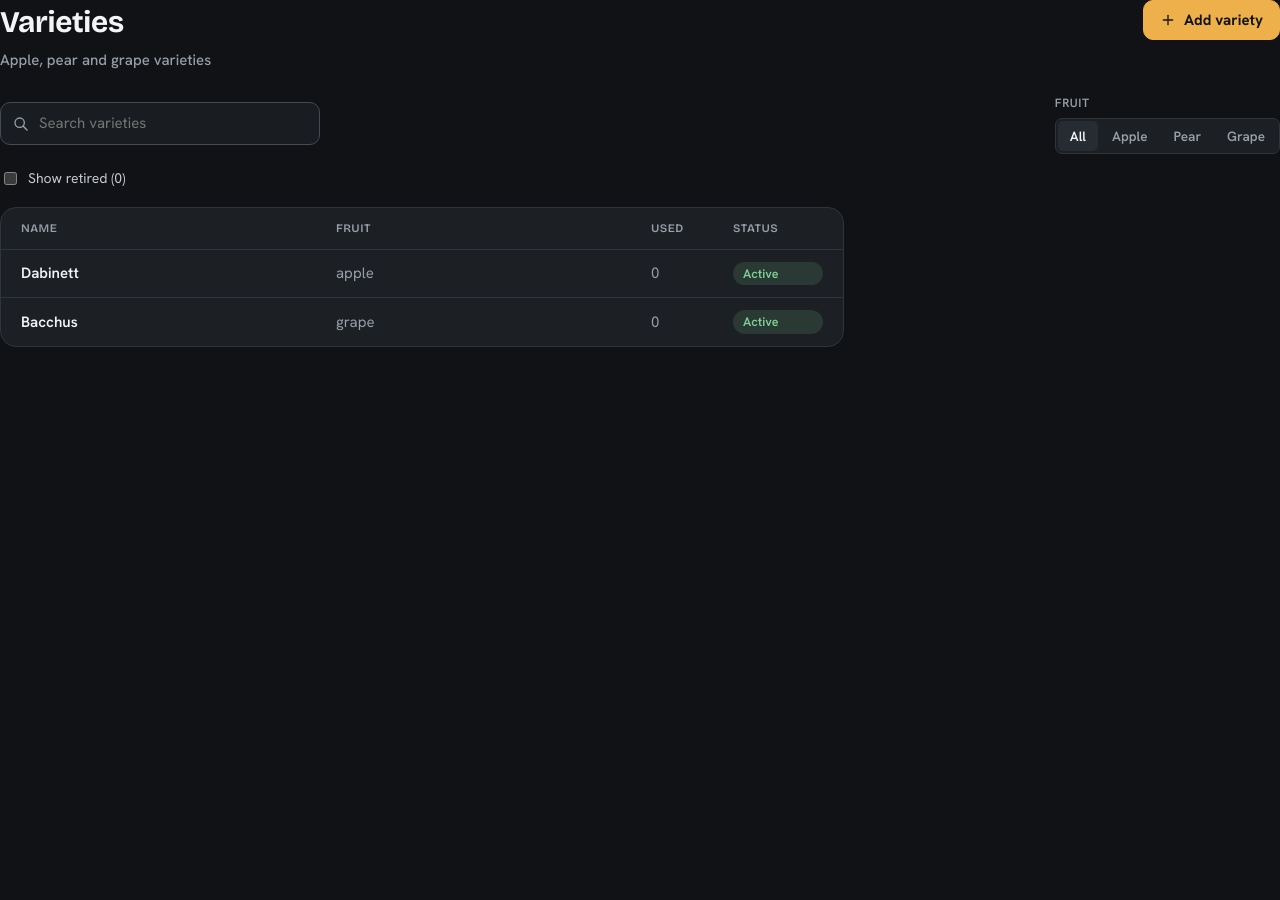
Test: ManagementList › deletes an unused item only after confirming
The width and height of the screenshot is (1280, 900).
Click the text "Dabinett" at x=50, y=273, box [21,263,79,283]
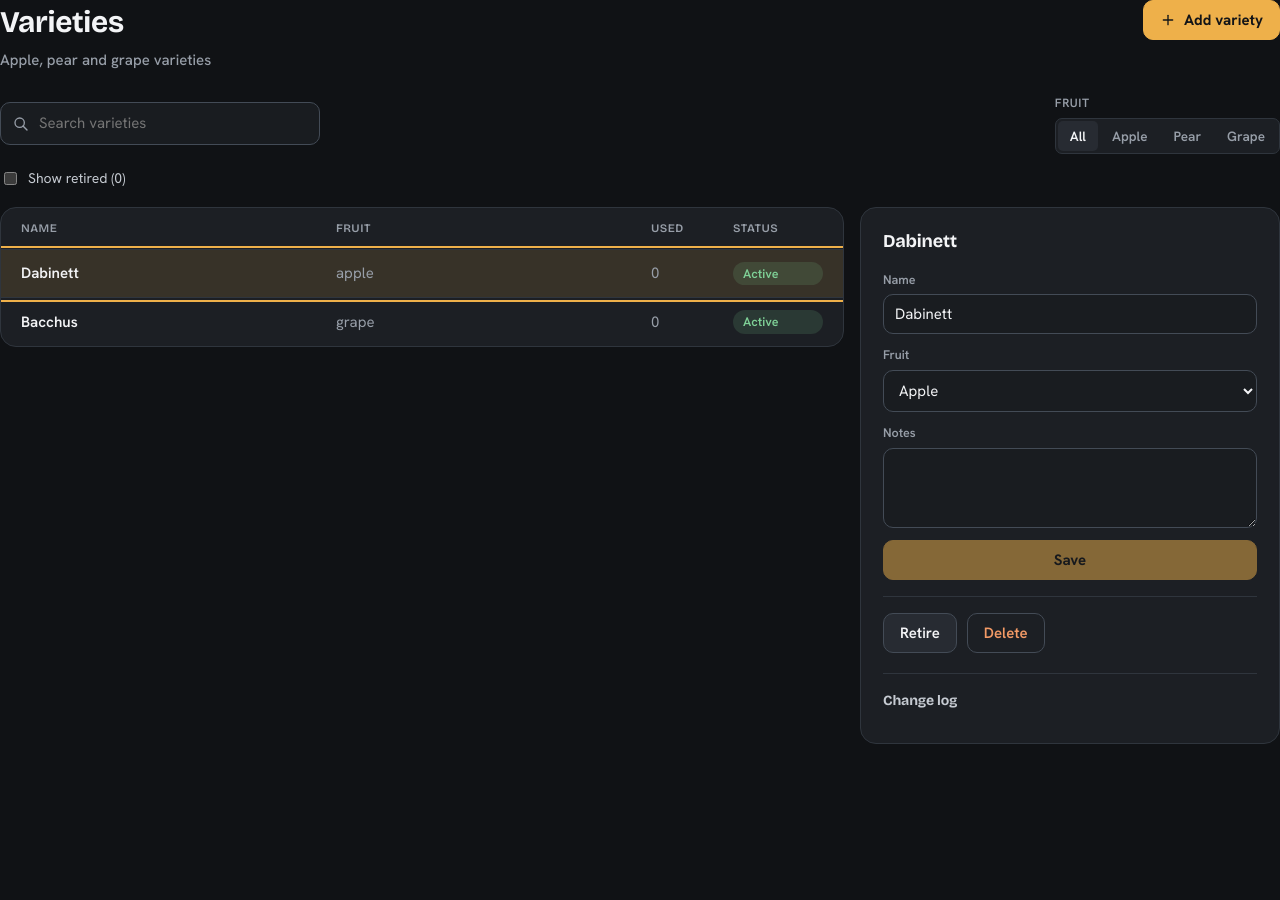
Click the button "Delete" at x=1006, y=633, box [967,613,1045,653]
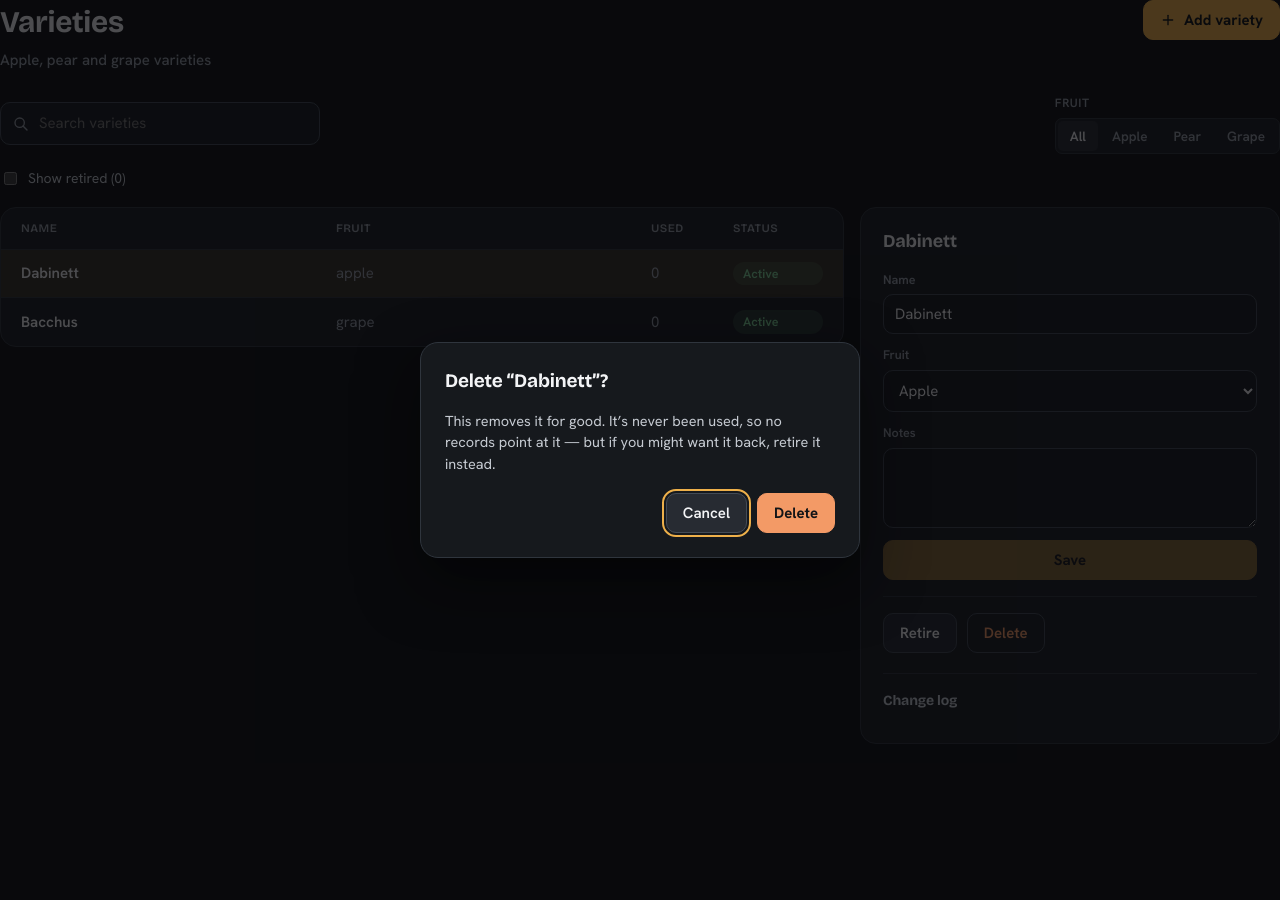
# Esc backs out without deleting.
Press Escape
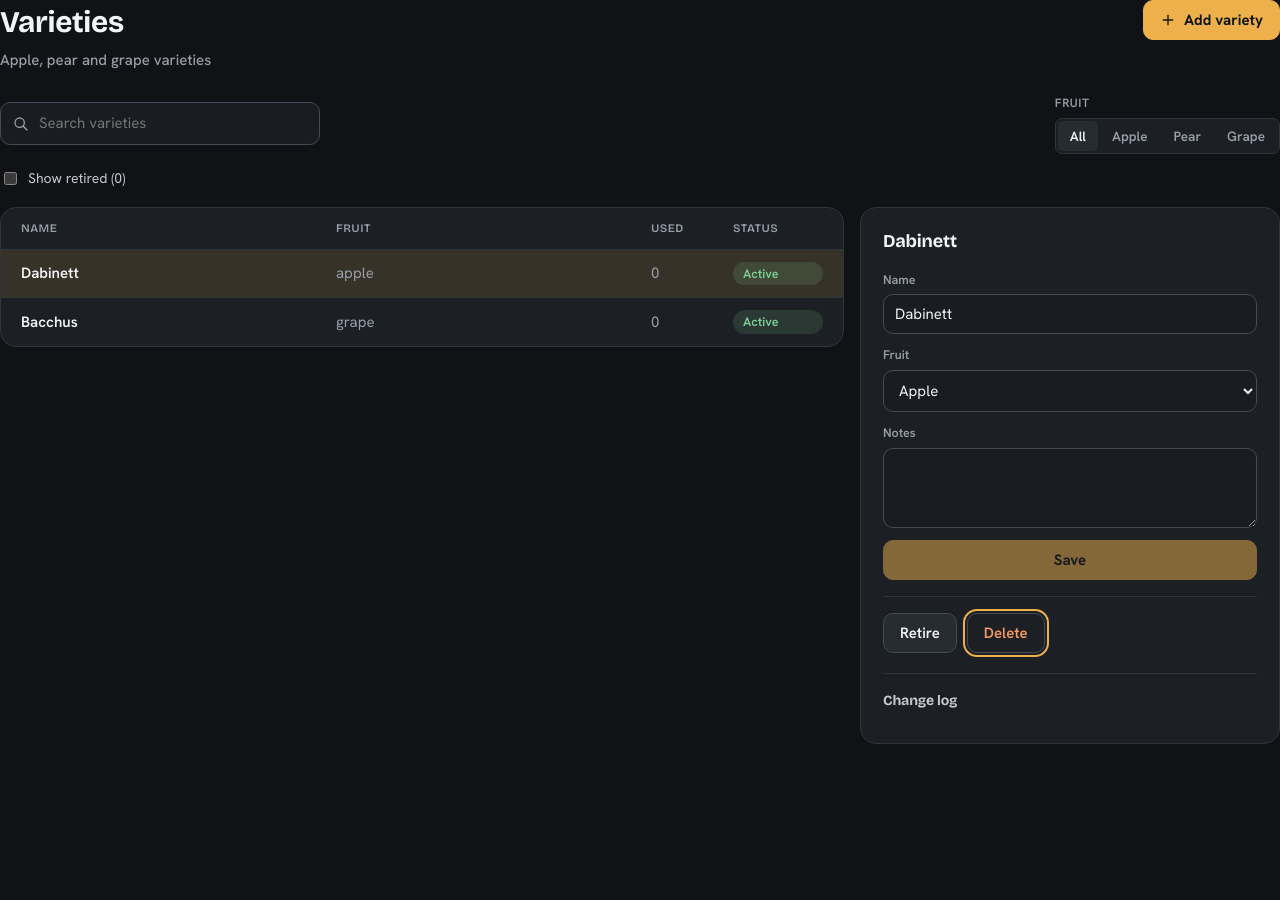
Expected: the dialog is gone
Click the button "Delete" at x=1006, y=633, box [967,613,1045,653]
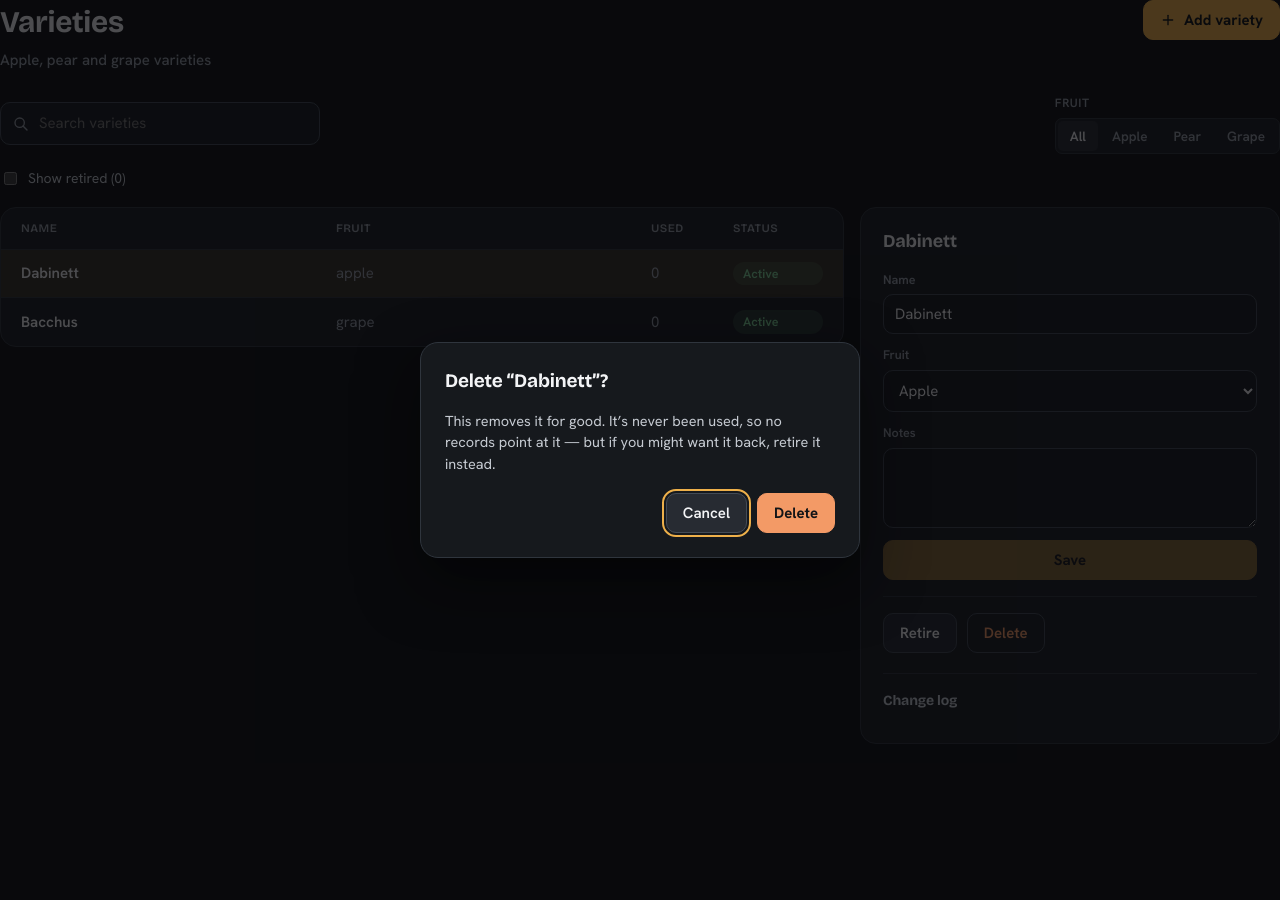
Click the button "Delete" at x=796, y=513, box [757,493,835,533]
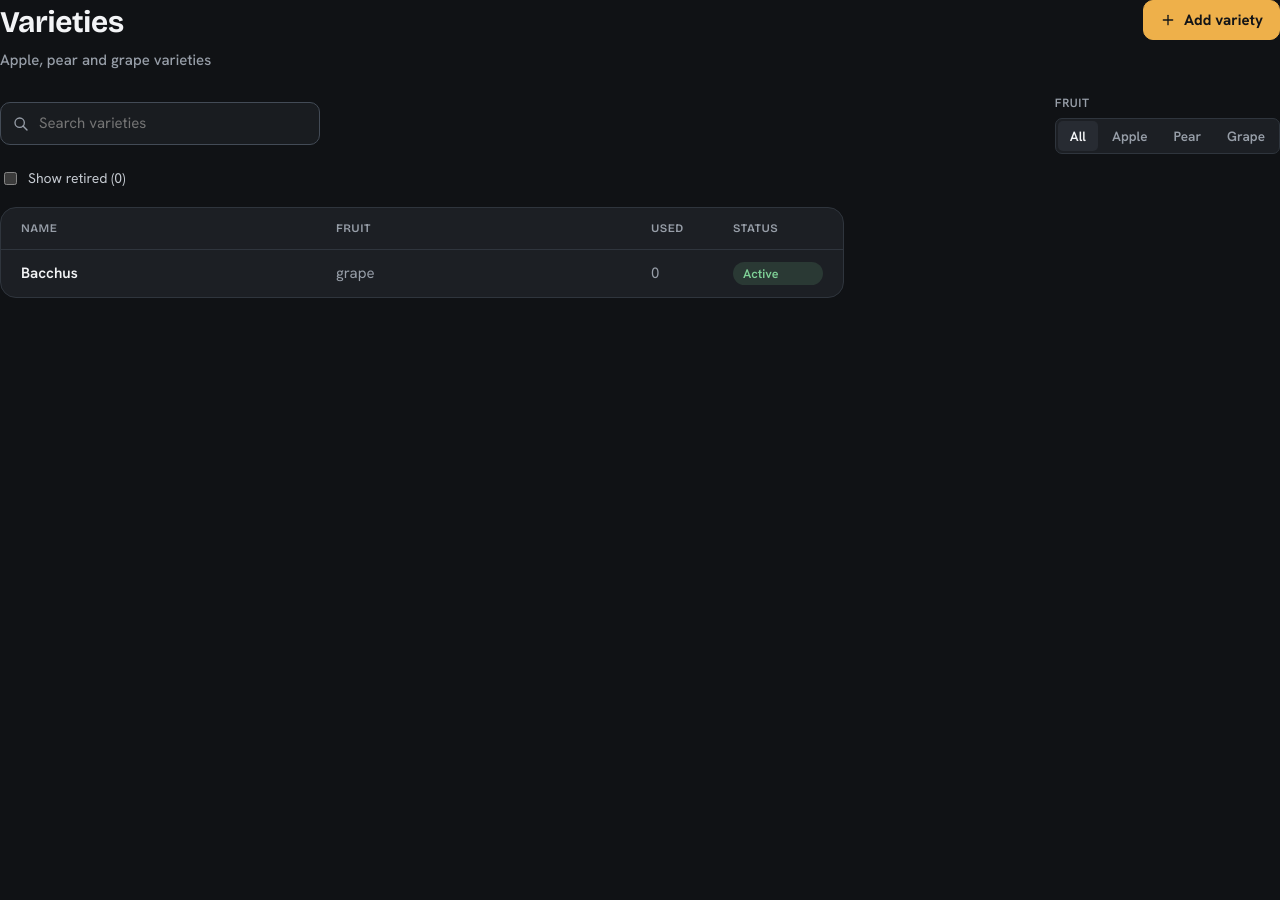
Expected: the button "Dabinett" is gone
